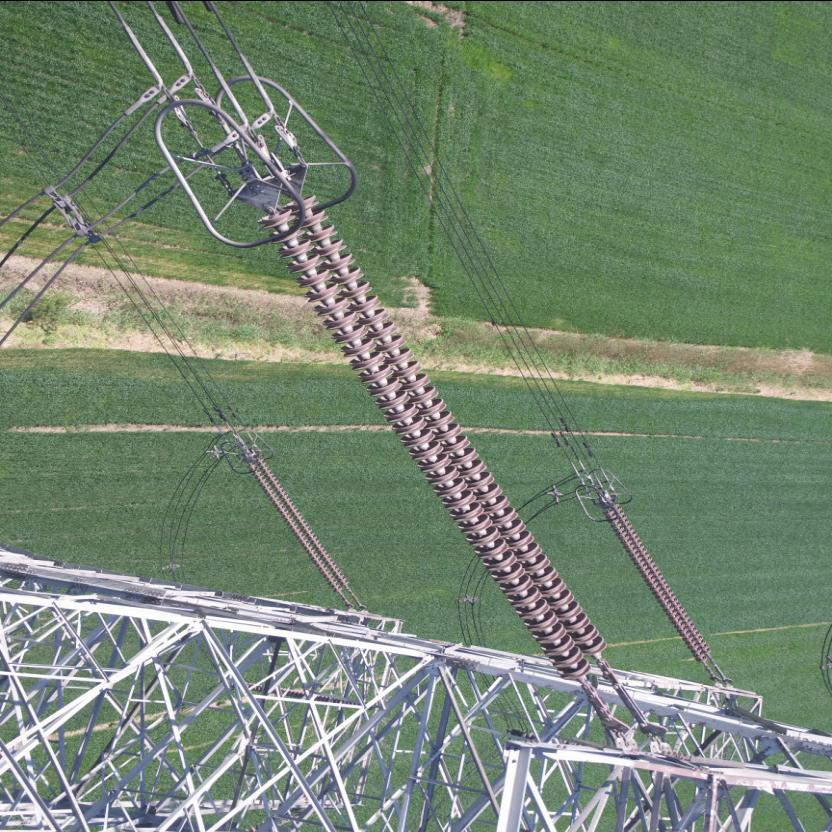insulator: (255, 183, 630, 710), (596, 494, 720, 671), (253, 456, 358, 598)
